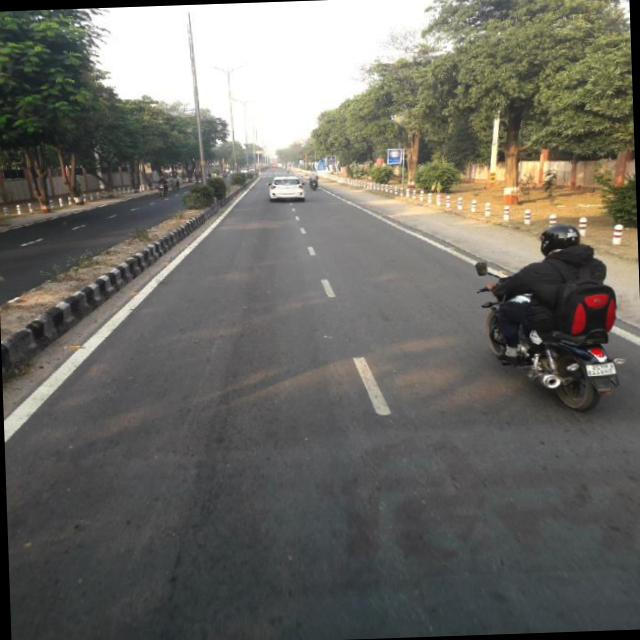crack: (121, 294, 242, 557)
